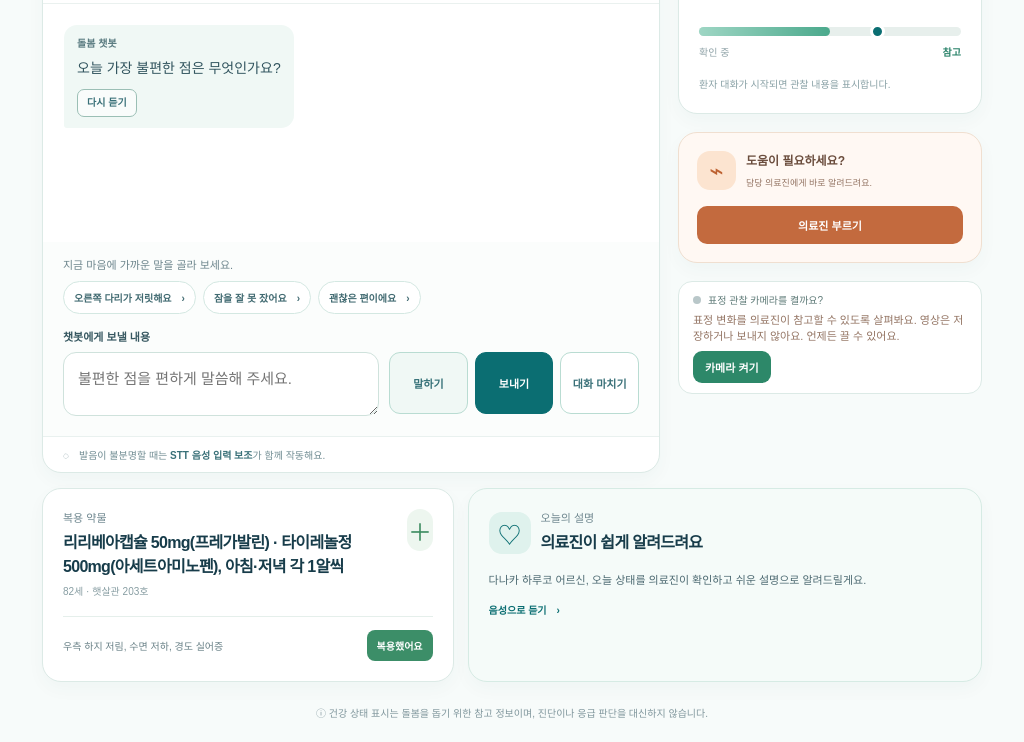
it: PatientChat › adds the patient message and displays the chatbot response
(page scrolled)
Type "허리가 아파요." into the text box labelled "챗봇에게 보낼 내용" at (221, 384), box 63,352 -> 379,416
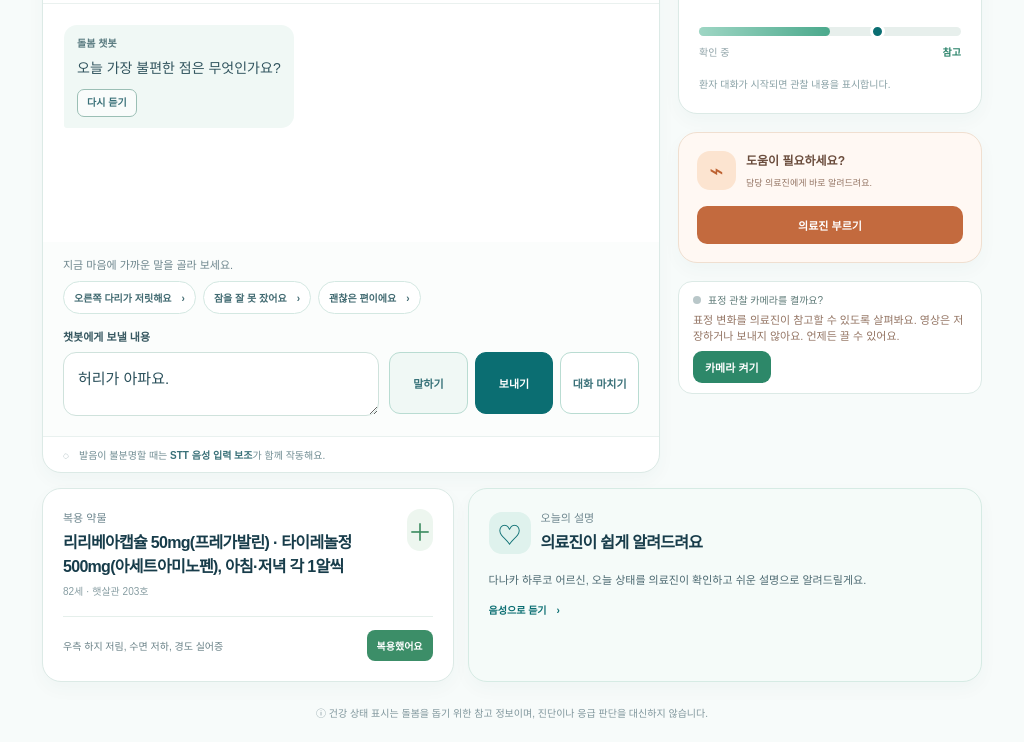
Click the button "보내기" at (514, 383), box 475,352 -> 553,414
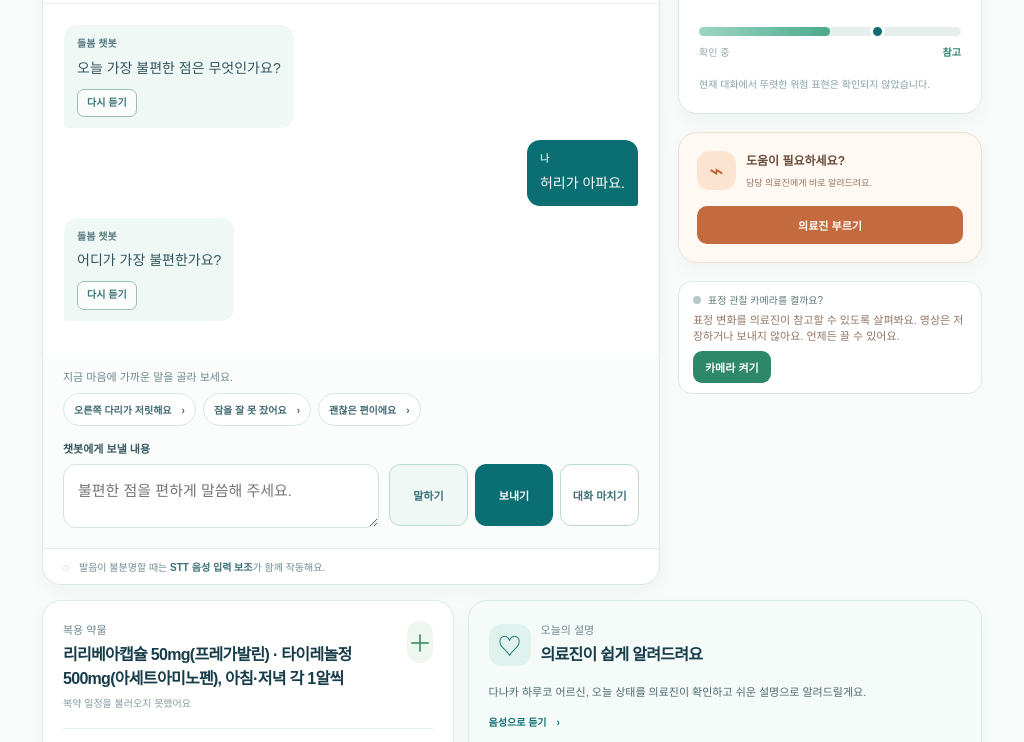
Expected: the text "허리가 아파요." is shown, 540,172 -> 625,195
Expected: the text "어디가 가장 불편한가요?" is shown, 77,249 -> 221,272
